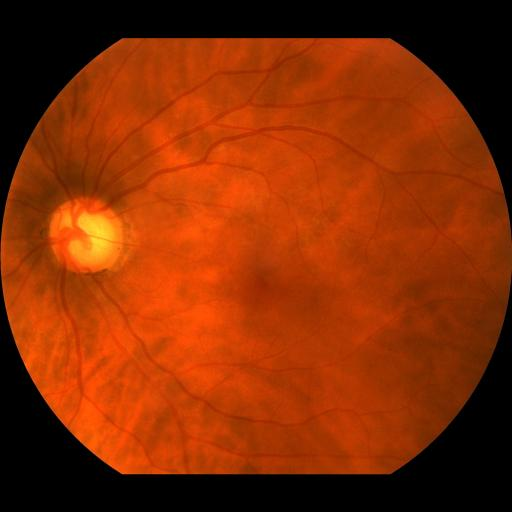Optic Cup: (68, 215, 111, 253)
Optic Disc: (49, 199, 124, 273)
